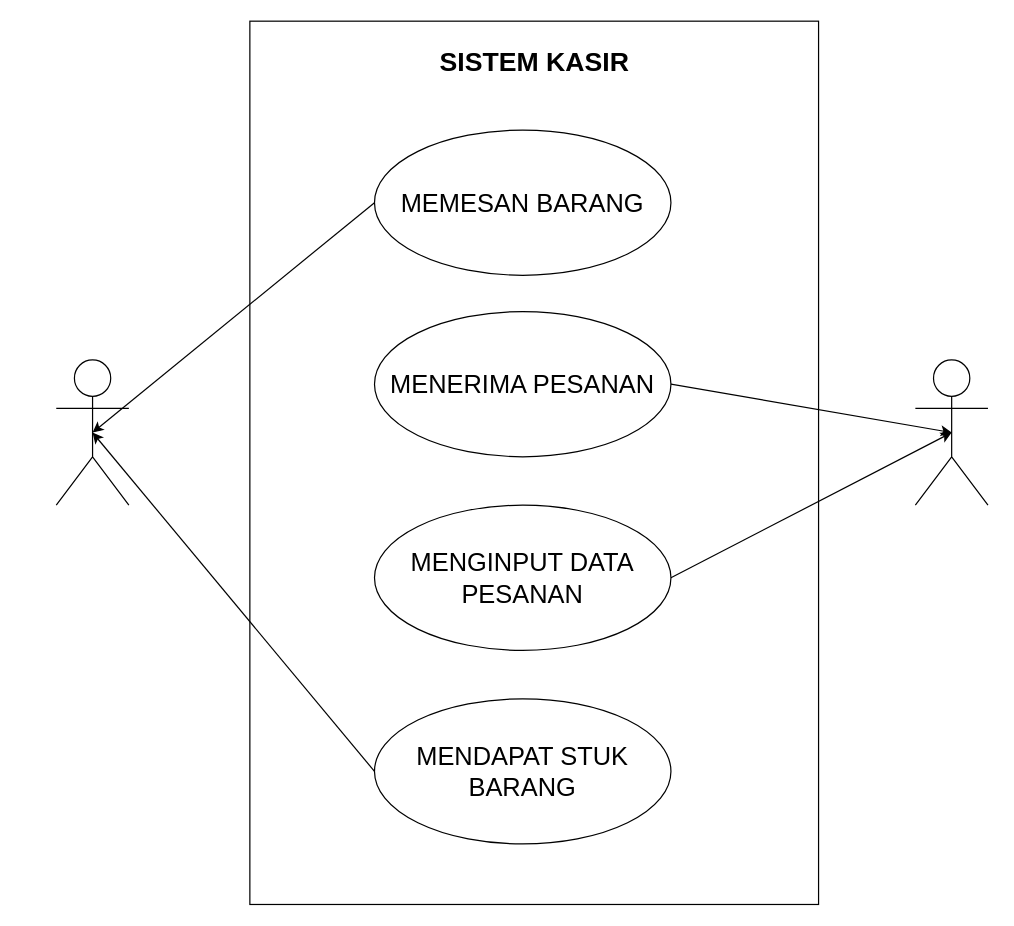
Some shapes in this 1014 by 926 pixel diagram are drawn without their labels. The centre of each missing label's shape, as x and y in pixels:
"KASIR" belongs at point 951,432.
"PELANGGAN" belongs at point 92,432.
